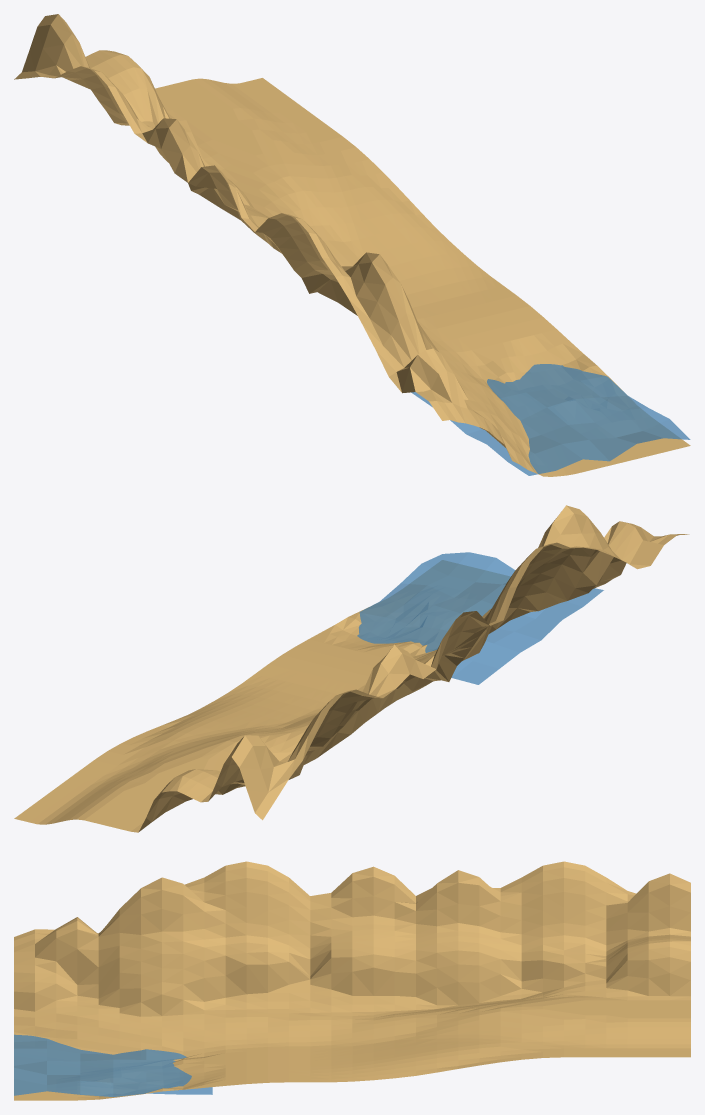
File: beach_scene.fbx
3 views of the same model, one above another, from view 1: azimuth 30°, elevation 25°; view 2: azimuth 150°, elevation 25°; view 3: azimuth 270°, elevation 25° (orthographic). The views are drawn at different scales.
Parts seen in each view (by area): view 1: Terrain; view 2: Terrain; view 3: Terrain.
Boxes of the visible parts, left/top/right/bottom form: Terrain: left=14, top=14, right=690, bottom=476; Terrain: left=14, top=505, right=689, bottom=832; Terrain: left=14, top=861, right=690, bottom=1100.
Bounding box in the file's own units: 25648 × 18115 × 76350.
